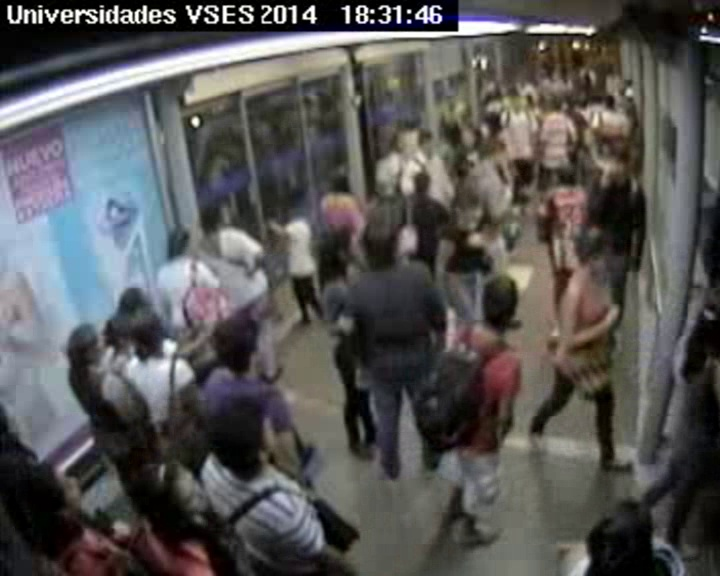person: (13, 462, 88, 543), (209, 398, 280, 477), (587, 496, 657, 573), (133, 456, 206, 529), (213, 320, 261, 375), (575, 225, 613, 273), (482, 275, 522, 320), (67, 325, 104, 363), (363, 231, 399, 264), (454, 195, 483, 230), (105, 317, 134, 351), (334, 227, 361, 261), (370, 195, 399, 226), (131, 324, 159, 356), (605, 143, 632, 172), (203, 203, 228, 229), (169, 230, 191, 254), (394, 133, 415, 155), (556, 163, 576, 185), (411, 172, 430, 194), (479, 119, 497, 141), (418, 133, 437, 153), (478, 223, 497, 243), (442, 121, 460, 142), (581, 127, 598, 148), (285, 204, 303, 222), (331, 174, 349, 192), (463, 128, 480, 147), (452, 105, 468, 122), (486, 81, 502, 96), (510, 96, 524, 110), (600, 143, 612, 157), (549, 97, 561, 110), (603, 96, 615, 108), (555, 67, 566, 79), (517, 74, 528, 85), (538, 66, 549, 77), (561, 98, 571, 110), (525, 95, 535, 105), (608, 64, 616, 73), (583, 58, 590, 66)
